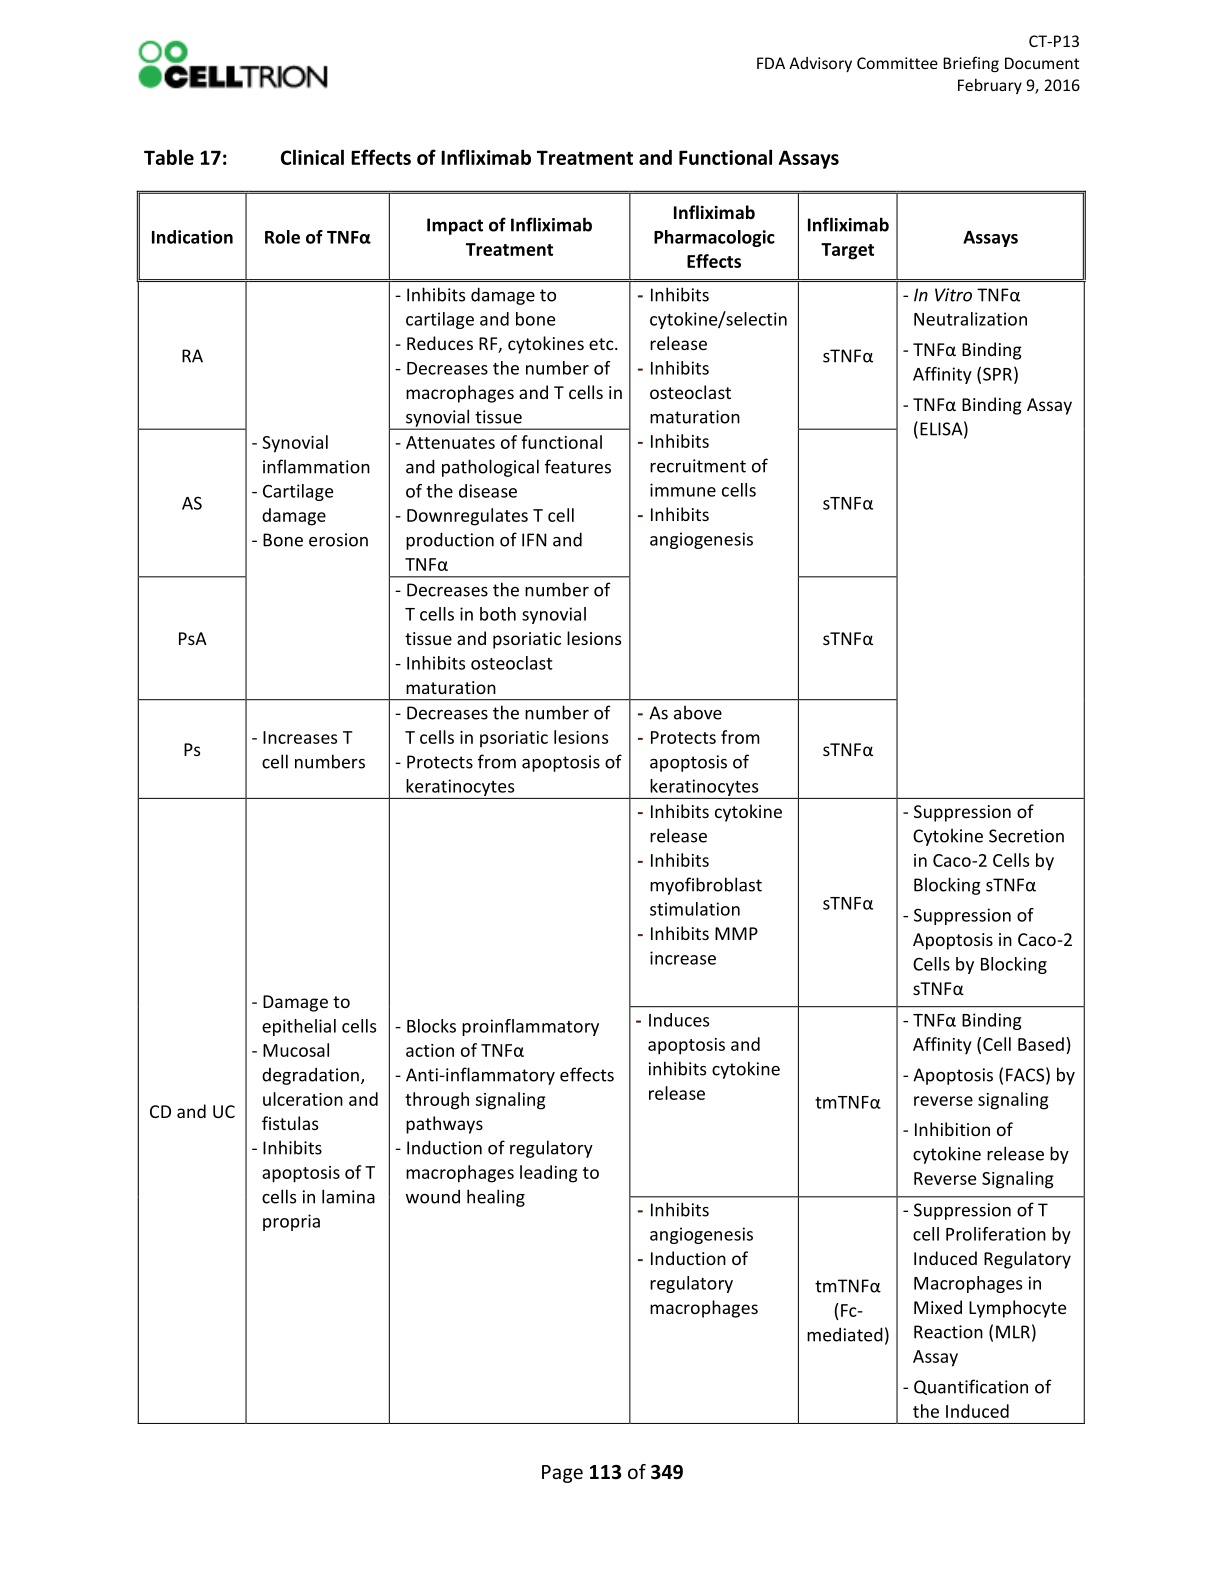merged_cells: (136, 190, 1086, 1425)
